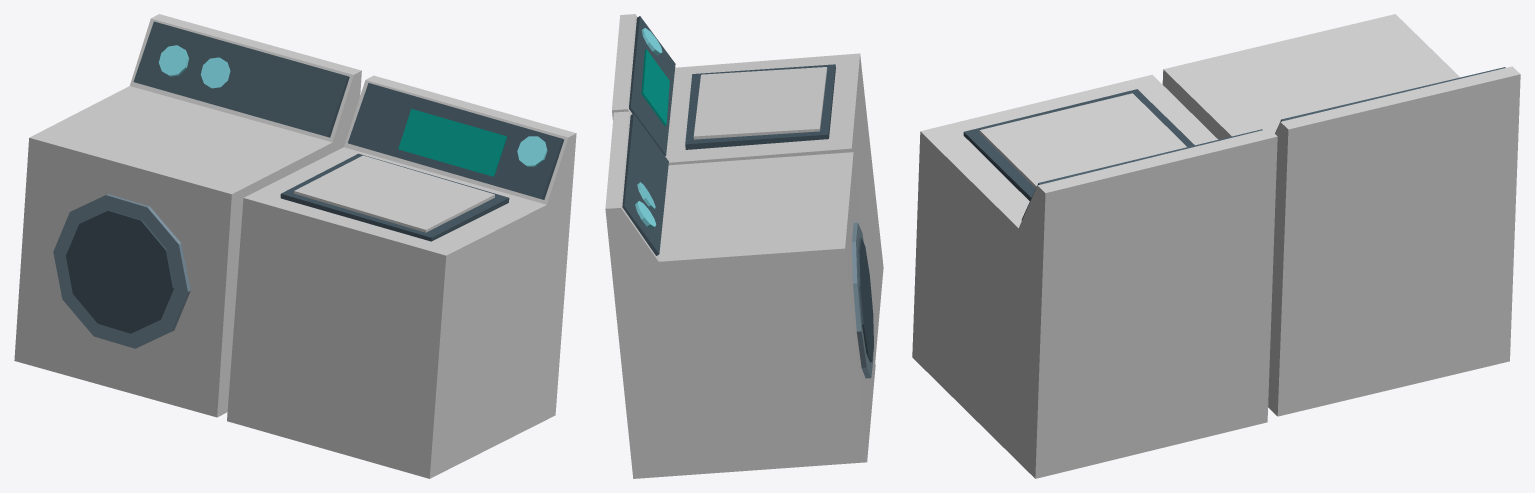
File: washing.glb
The picture shows the model from 3 angles, left to right: view 1: azimuth 30°, elevation 25°; view 2: azimuth 150°, elevation 25°; view 3: azimuth 270°, elevation 25°; orthographic projection. The views are drawn at different scales.
Parts seen in each view (by area): view 1: group1745559080, group886573011; view 2: group886573011, group1745559080; view 3: group1745559080, group886573011.
Boxes of the visible parts, x1,y1,x2,y2 form: group1745559080: [227, 75, 576, 478]; group886573011: [14, 14, 361, 417]; group886573011: [605, 111, 875, 478]; group1745559080: [612, 14, 883, 361]; group1745559080: [912, 74, 1277, 478]; group886573011: [1162, 14, 1520, 416].
Size of the model in its own units: 0.2944 by 0.1963 by 0.3471.
